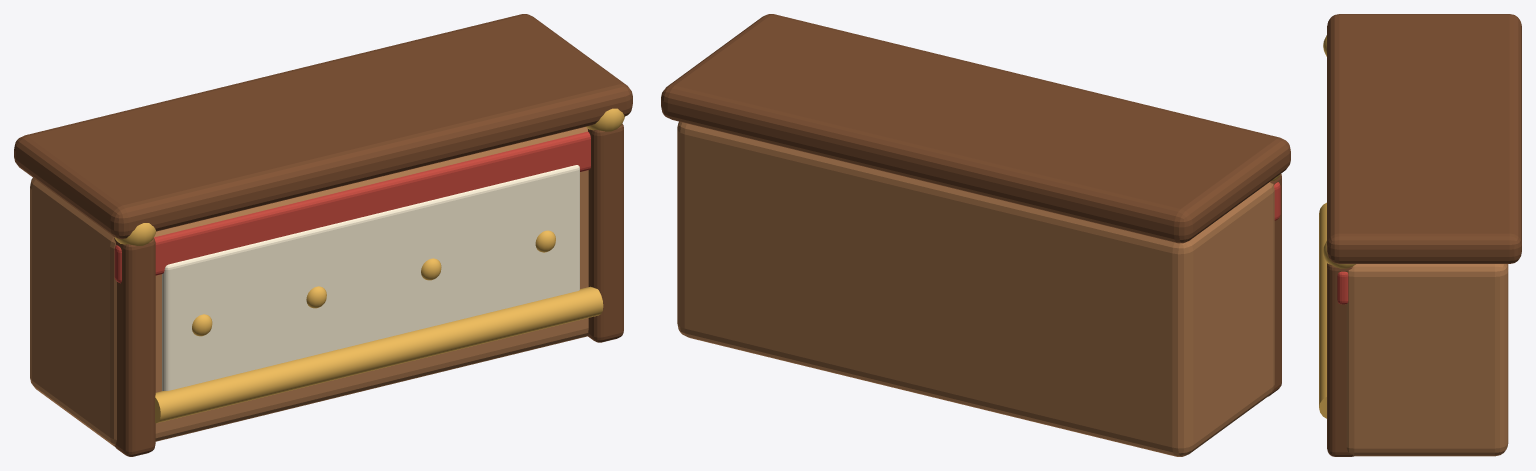
File: ui-counter.glb
3 renders of one model, left to right at view 1: azimuth 30°, elevation 25°; view 2: azimuth 150°, elevation 25°; view 3: azimuth 270°, elevation 25°, orthographic. The views are drawn at different scales.
Parts seen in each view (by area): view 1: UI · counter top, UI · counter cream face, UI · counter body, UI · counter red band, UI · counter foot rail, UI · counter post -1, UI · counter post 1; view 2: UI · counter body, UI · counter top, UI · counter post -1; view 3: UI · counter top, UI · counter body, UI · counter post 1, UI · counter foot rail, UI · counter red band.
Boxes of the visible parts, <box> form: UI · counter top: <box>14,14,632,239</box>; UI · counter cream face: <box>162,165,579,390</box>; UI · counter body: <box>30,127,588,446</box>; UI · counter red band: <box>114,131,590,283</box>; UI · counter foot rail: <box>155,286,603,423</box>; UI · counter post -1: <box>114,237,155,456</box>; UI · counter post 1: <box>587,124,623,342</box>; UI · counter body: <box>677,121,1274,456</box>; UI · counter top: <box>661,14,1290,243</box>; UI · counter post -1: <box>1268,174,1281,396</box>; UI · counter top: <box>1327,14,1521,263</box>; UI · counter body: <box>1346,264,1508,456</box>; UI · counter post 1: <box>1327,263,1354,456</box>; UI · counter foot rail: <box>1319,202,1326,418</box>; UI · counter red band: <box>1337,271,1348,304</box>.
Bounding box in the file's own units: 2 × 0.92 × 0.75.
